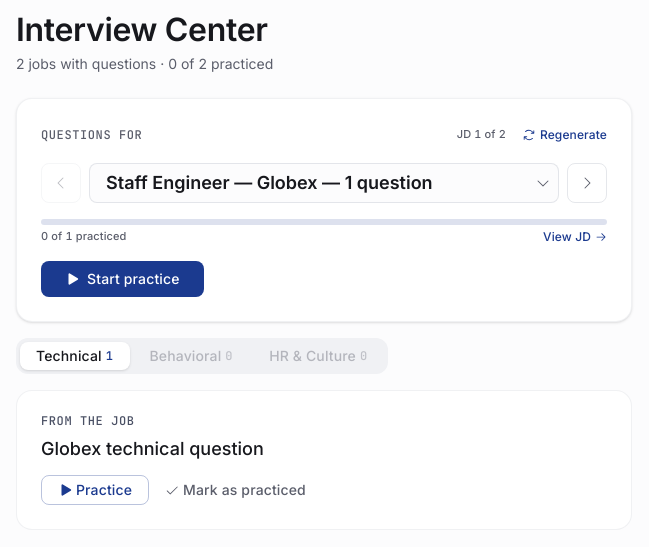
InterviewIndexPage — real questions exist across JDs › steps between JDs with the next/previous arrows
Check: the text "Globex technical question" is shown, box [41,438,264,458]
Check: the text "JD 1 of 2" is shown, box [457,127,506,143]
Click the button named "Next job description". click: (587, 183)
box: [567,163,607,203]
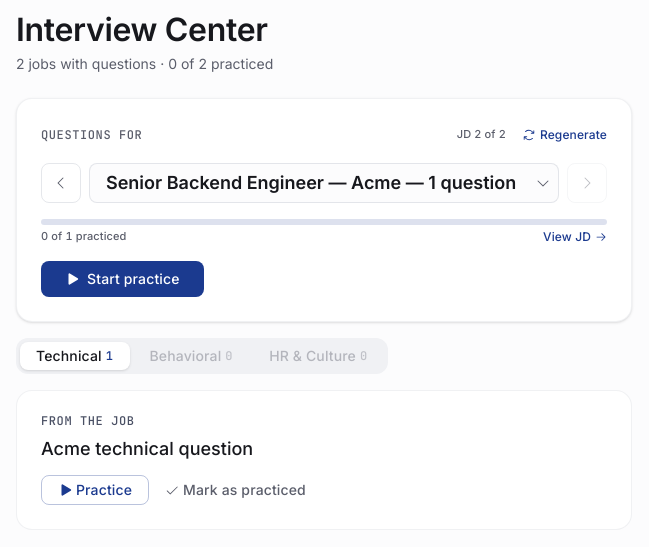
Check: the text "Acme technical question" is shown, box [41,438,253,458]
Check: the text "JD 2 of 2" is shown, box [457,127,506,143]
